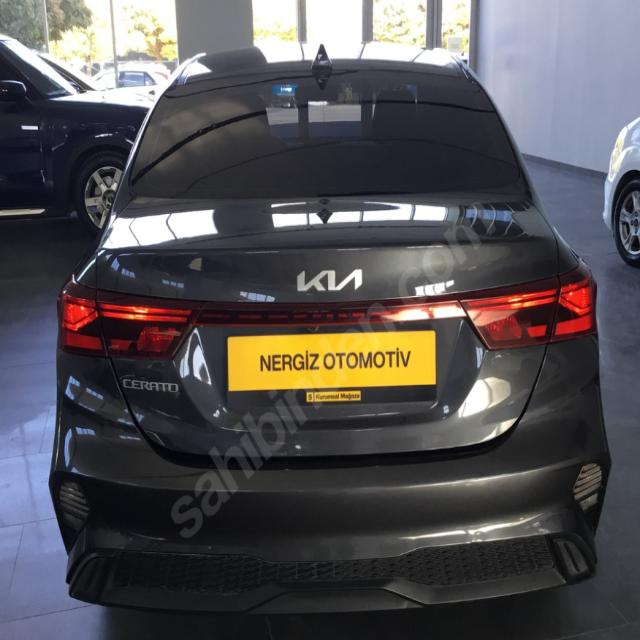kia: (291, 260, 369, 300)
